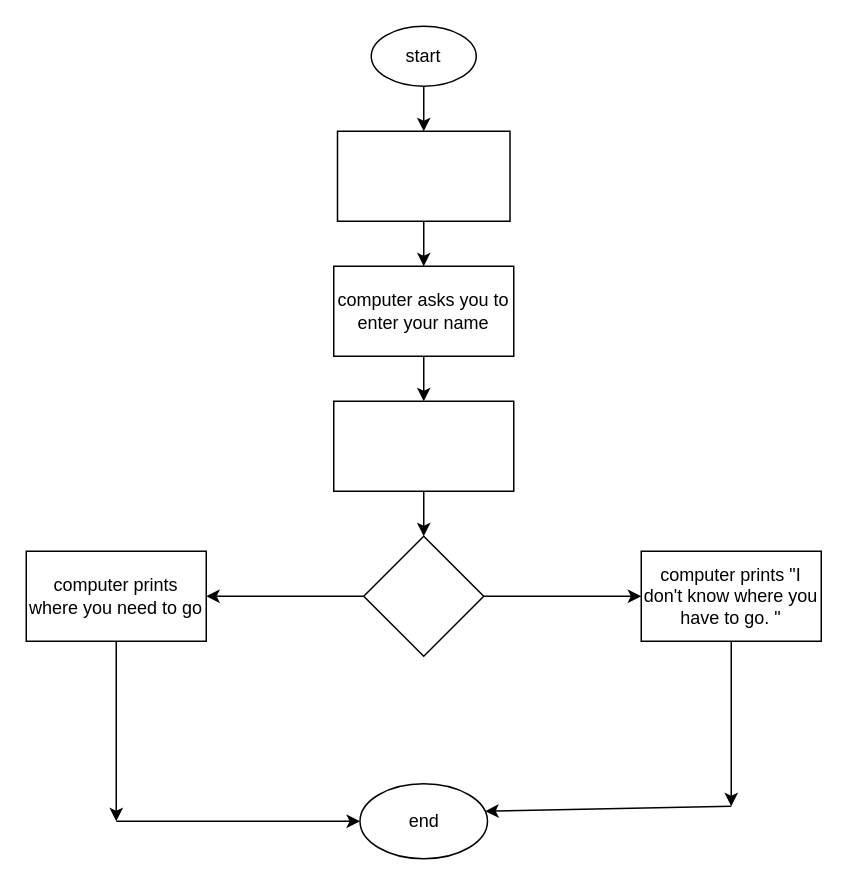
Image size: 848x885. Some labels were removed from this diagram. Each missing label, with the centre of its shape:
computer asks you to enter your subject: (423,445)
computer stores information about the classes and subjects: (423,175)
subject in Schedule?: (423,595)
